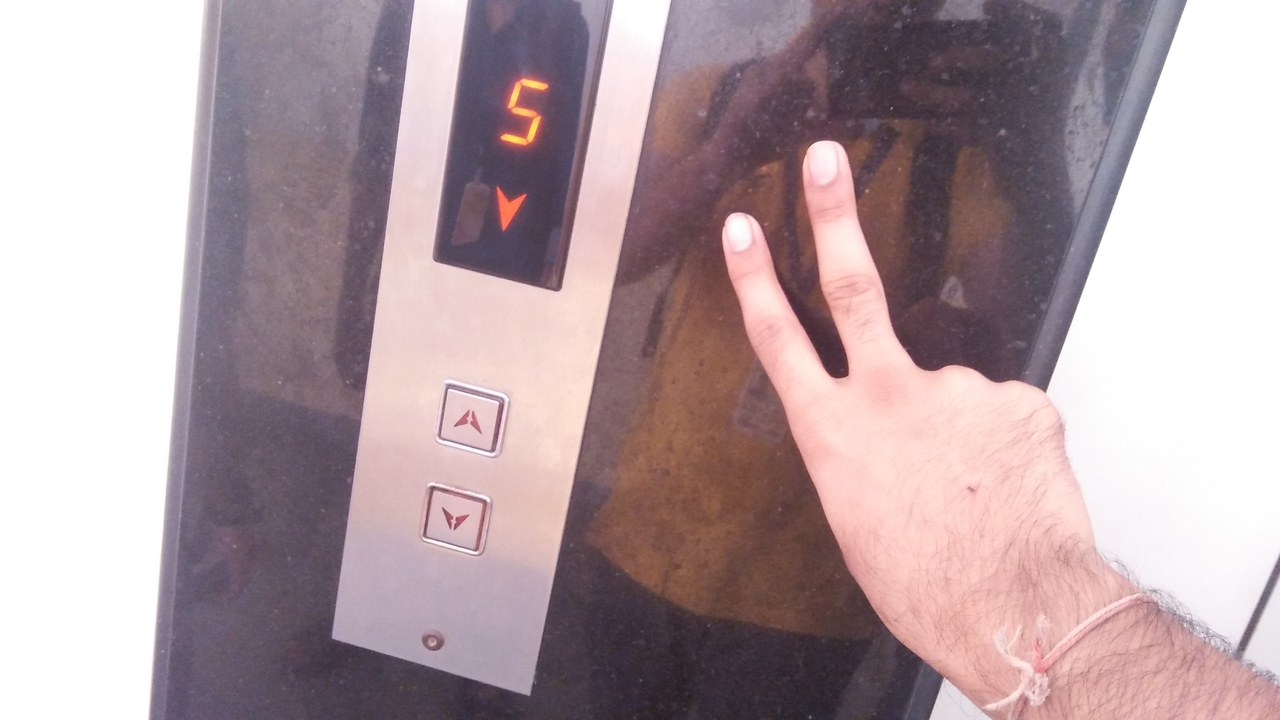fingertip: (796, 134, 864, 200), (714, 200, 776, 268)
